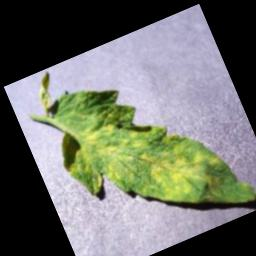Leaf_Mold: (38, 42, 256, 256)
